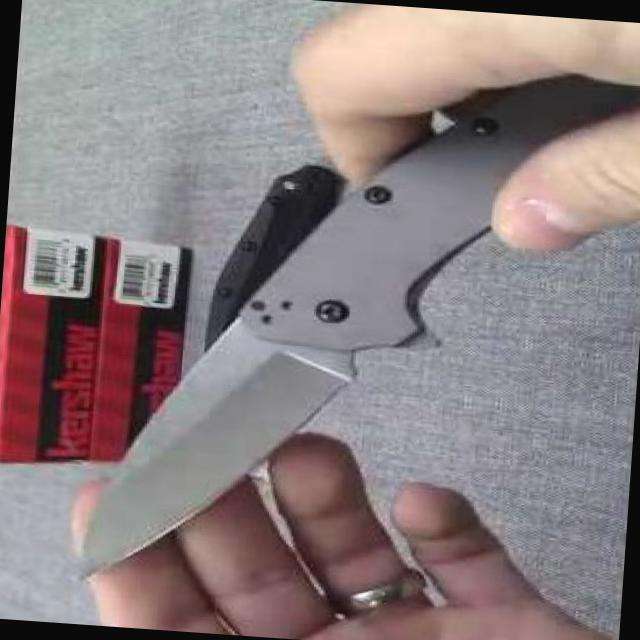knife: (34, 28, 639, 637)
